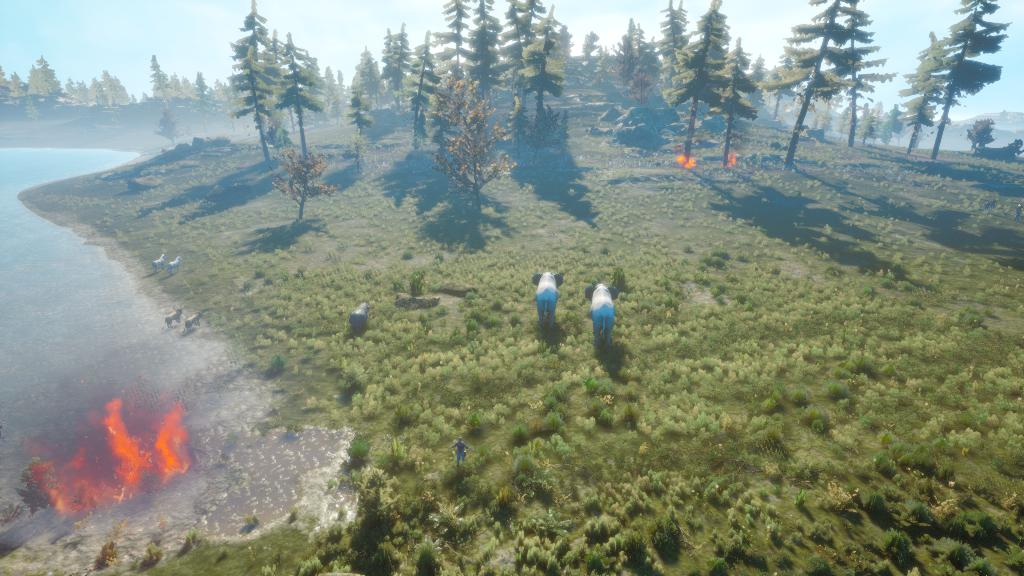Fire: (103, 397, 192, 499), (674, 153, 700, 173), (725, 153, 739, 170)
elephant: (587, 269, 627, 351), (526, 262, 572, 330)
hippopotamus: (339, 288, 376, 349)
human: (448, 430, 476, 475)
pig: (155, 298, 188, 326), (181, 309, 213, 334)
zebra: (149, 242, 166, 271), (165, 249, 184, 274)
